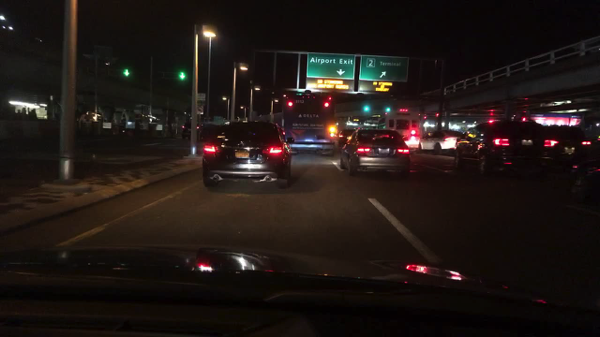bus: (282, 91, 337, 155)
car: (203, 121, 290, 191), (453, 120, 544, 178), (341, 127, 412, 177), (541, 123, 590, 169), (566, 153, 600, 209), (377, 114, 422, 148), (416, 130, 462, 154), (181, 121, 203, 140), (338, 129, 353, 148)
traffic light: (178, 71, 188, 81), (124, 66, 131, 78), (365, 104, 370, 114), (384, 107, 391, 112)
traffic sign: (306, 52, 355, 79), (359, 53, 409, 79), (306, 78, 354, 93), (357, 80, 404, 95), (213, 116, 224, 125), (197, 104, 204, 115), (197, 93, 206, 99)
